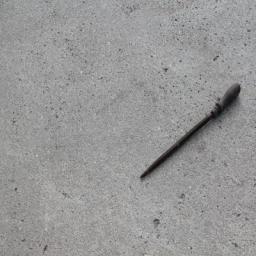FOD: (139, 79, 242, 182)
